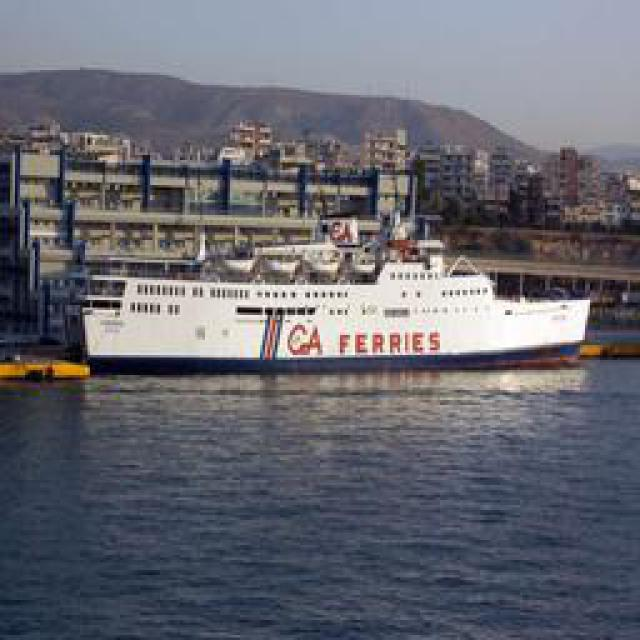Ship: (83, 255, 601, 373)
